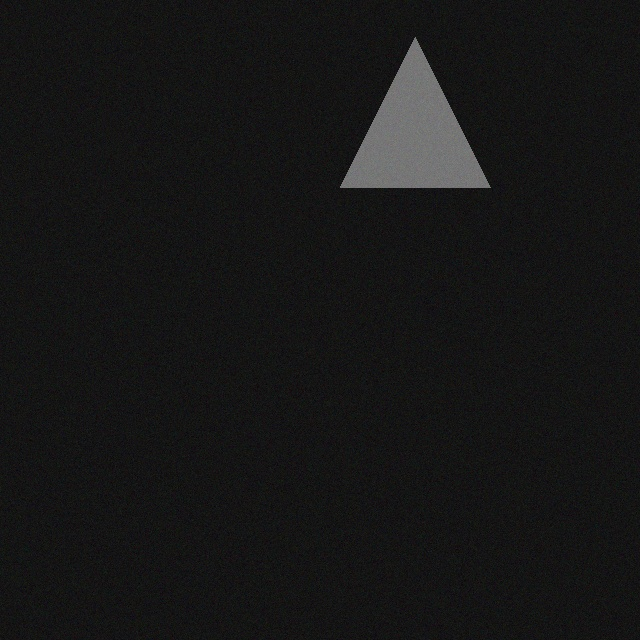triangle: (351, 27, 501, 177)
